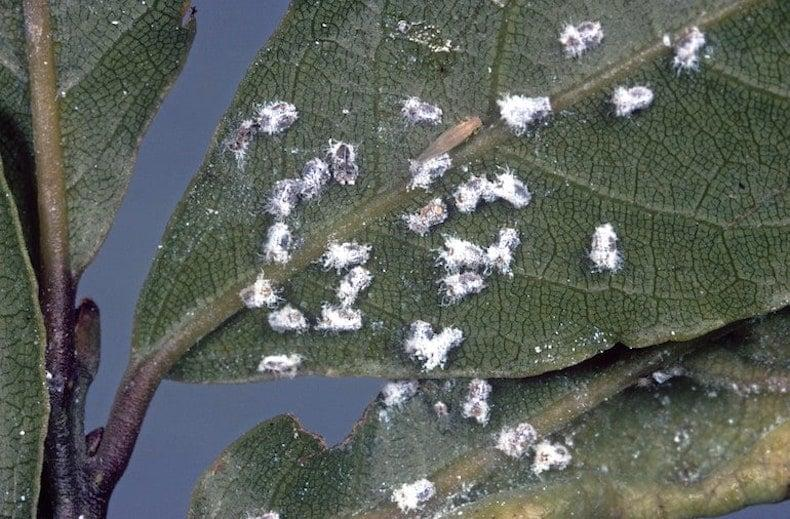pseudococcidae: (173, 0, 771, 384), (227, 367, 603, 518)
